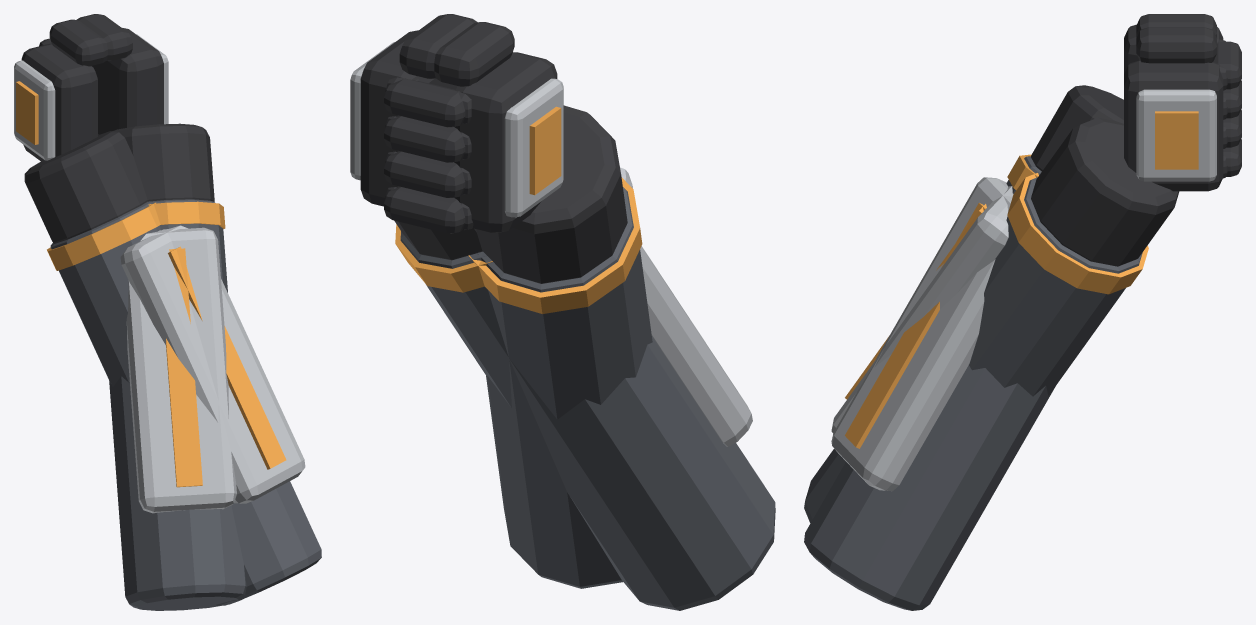
File: arms.glb
The picture shows the model from 3 angles, left to right: view 1: azimuth 30°, elevation 25°; view 2: azimuth 150°, elevation 25°; view 3: azimuth 270°, elevation 25°; orthographic projection. The views are drawn at different scales.
Parts seen in each view (by area): view 1: ForearmR, ForearmL, HandL, HandR; view 2: ForearmR, ForearmL, HandR, HandL; view 3: ForearmL, ForearmR, HandR, HandL.
Part boxes in pixels (left/top/right/bottom): ForearmR: left=109, top=123, right=246, bottom=610; ForearmL: left=24, top=131, right=321, bottom=605; HandL: left=14, top=14, right=132, bottom=161; HandR: left=39, top=19, right=168, bottom=134; ForearmR: left=394, top=220, right=775, bottom=610; ForearmL: left=468, top=105, right=652, bottom=588; HandR: left=350, top=22, right=514, bottom=233; HandL: left=385, top=14, right=563, bottom=232; ForearmL: left=804, top=85, right=1123, bottom=610; ForearmR: left=804, top=117, right=1179, bottom=522; HandR: left=1124, top=14, right=1241, bottom=191; HandL: left=1124, top=24, right=1227, bottom=178.
Size of the model in its own units: 0.1943 by 0.4988 by 0.3526.
